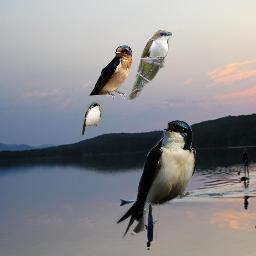Cuckoo: (127, 29, 172, 101)
Swallow: (116, 120, 196, 239), (89, 45, 132, 101), (82, 101, 102, 136)
